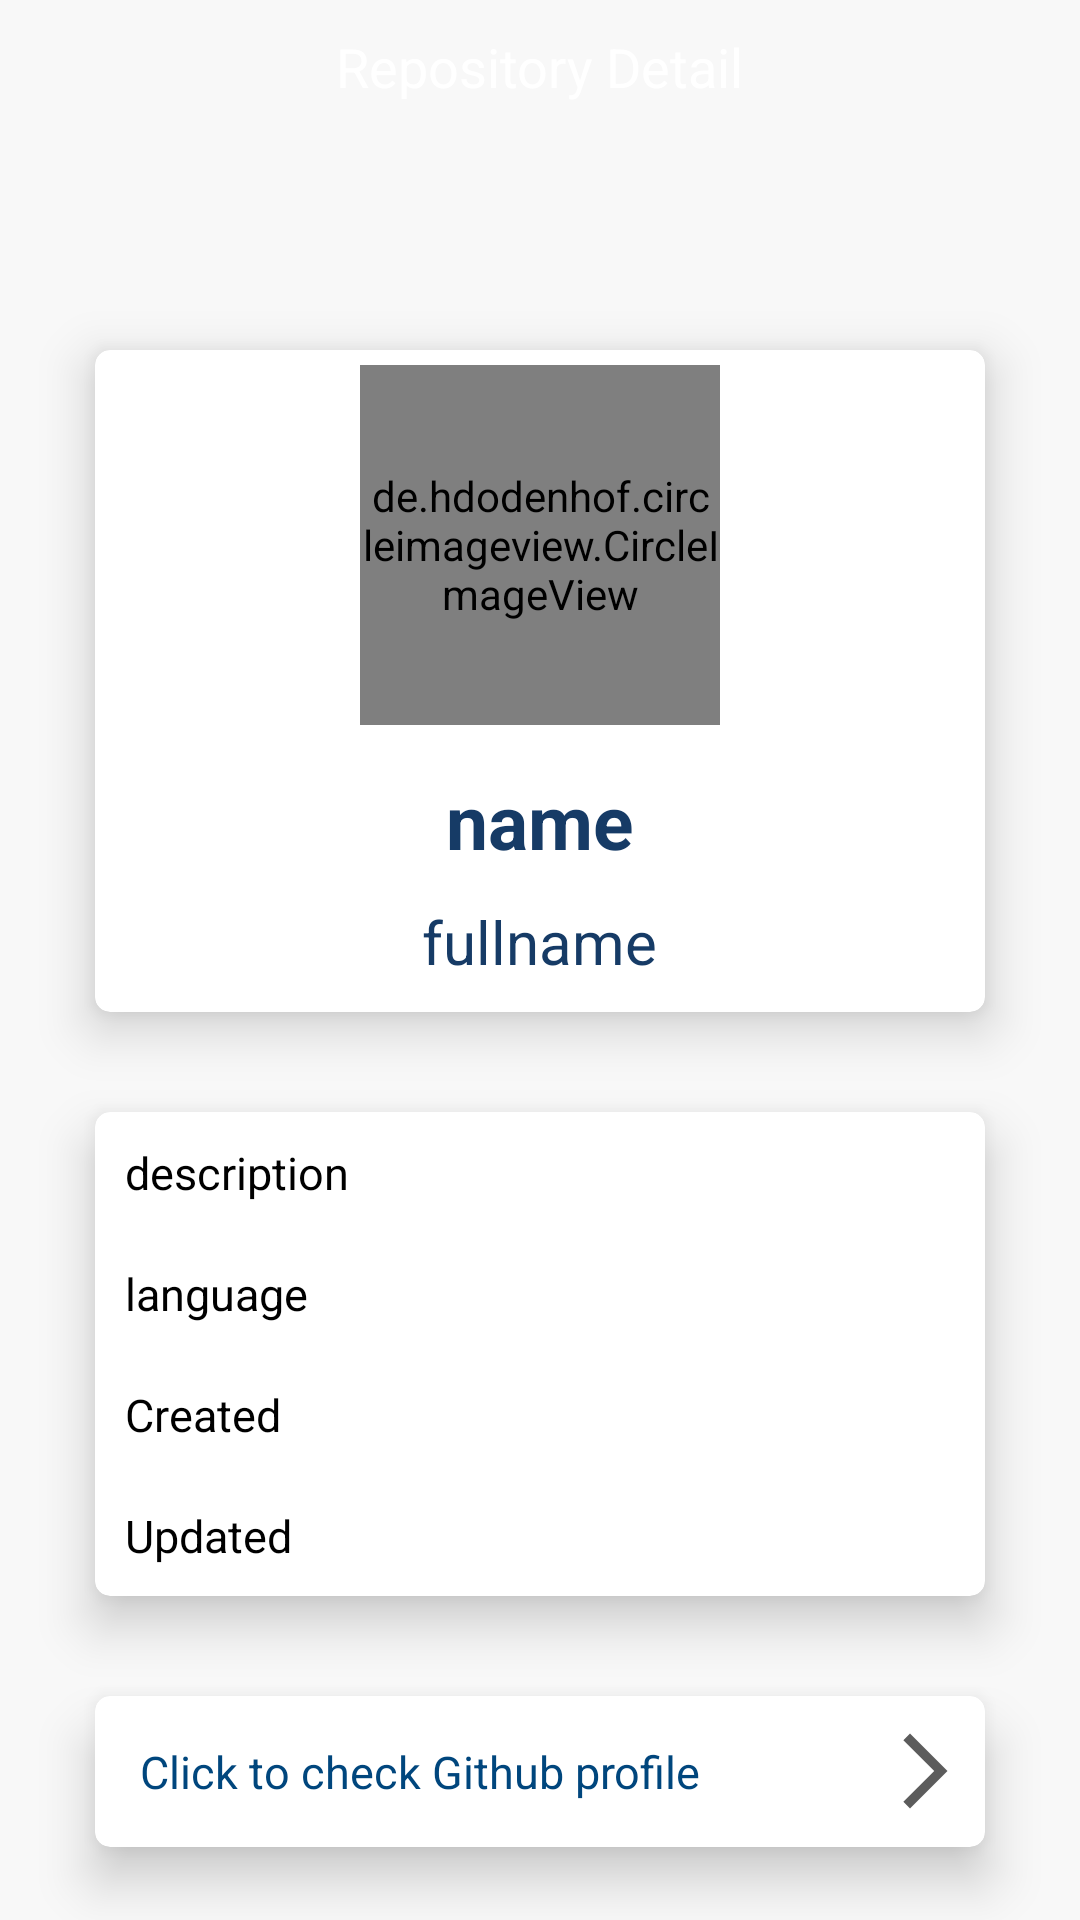

Screen size 1080*1920. Icon name, then its box in pixels as BBox(x1, y1, x2, y2):
arrow forward: BBox(903, 1734, 947, 1808)
